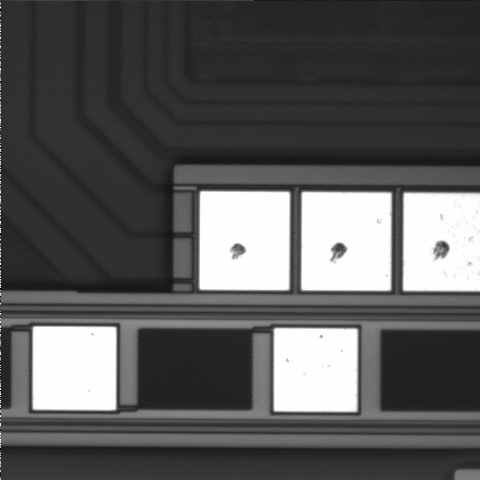pad: (199, 191, 290, 290), (301, 192, 391, 291), (274, 328, 357, 412), (33, 327, 116, 410)
